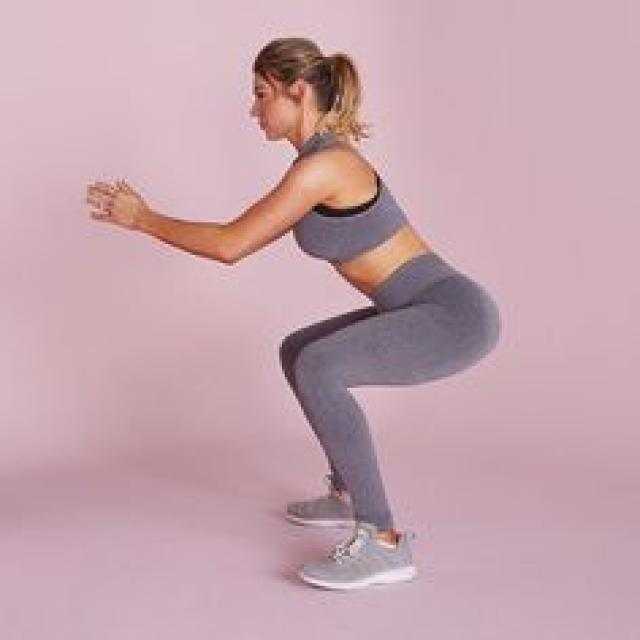squat: (82, 32, 506, 596)
